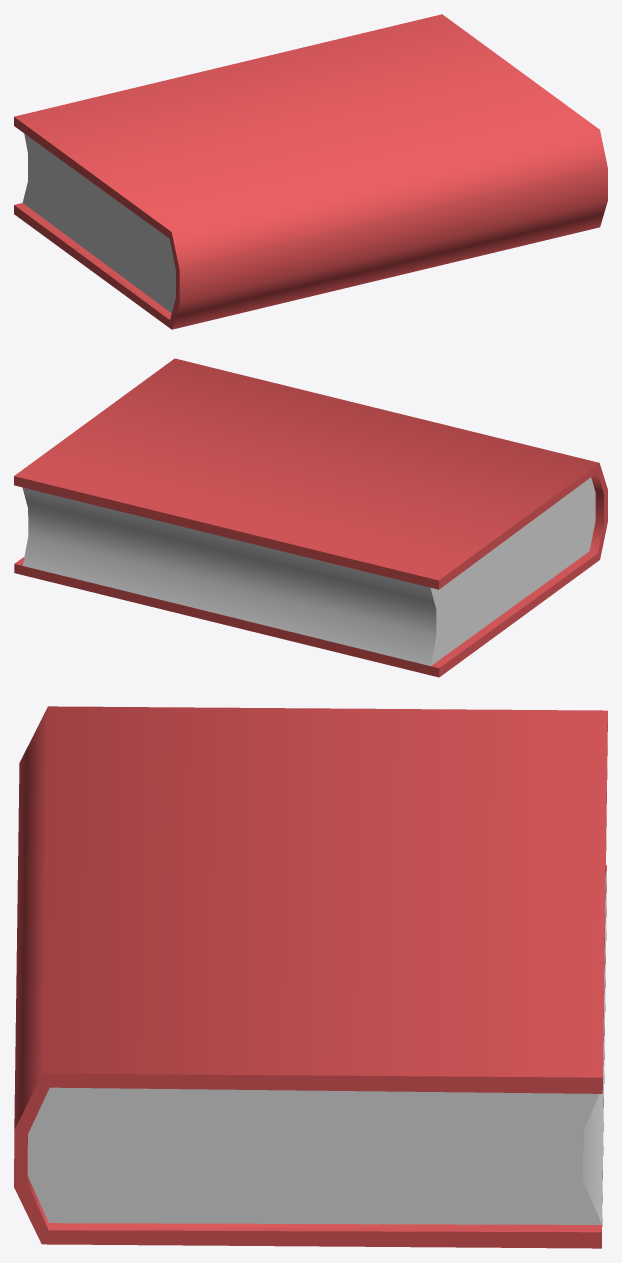
File: book_3_model.fbx
3 views of the same model, one above another, from view 1: azimuth 30°, elevation 25°; view 2: azimuth 150°, elevation 25°; view 3: azimuth 270°, elevation 25° (orthographic). The views are drawn at different scales.
Visible parts, largest first — view 1: Plane.003; view 2: Plane.003; view 3: Plane.003.
Boxes of the visible parts, bbox=[...] form: Plane.003: bbox=[14, 14, 607, 329]; Plane.003: bbox=[14, 358, 607, 677]; Plane.003: bbox=[14, 706, 607, 1248].
Size of the model in its own units: 0.2625 by 0.0583 by 0.1793.
